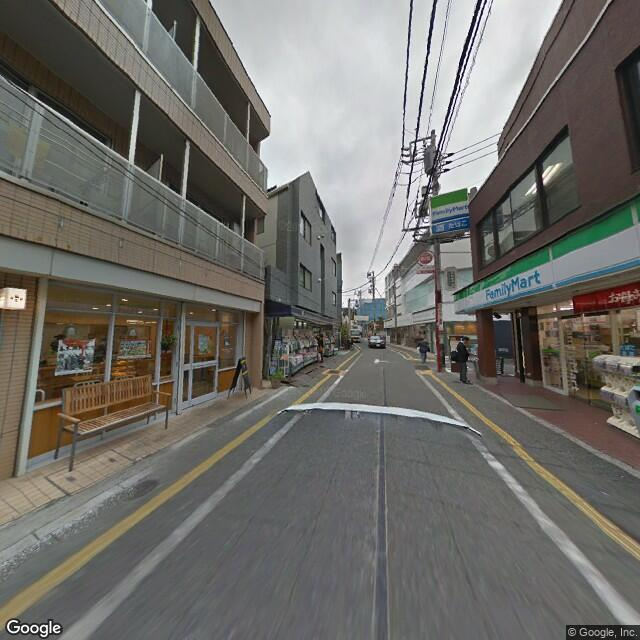family_mart: (449, 193, 637, 315), (482, 266, 544, 306), (428, 188, 471, 230)
